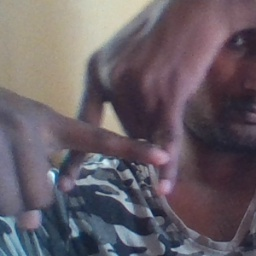H: (51, 67, 189, 203)
